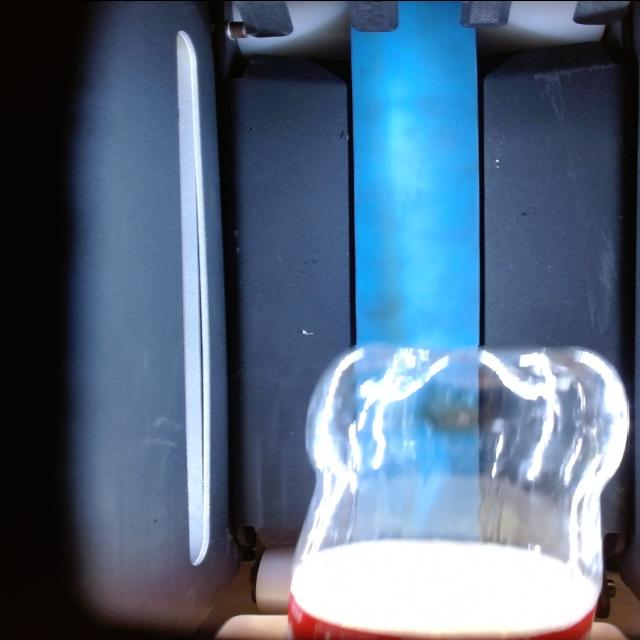bottle: (289, 344, 628, 640)
